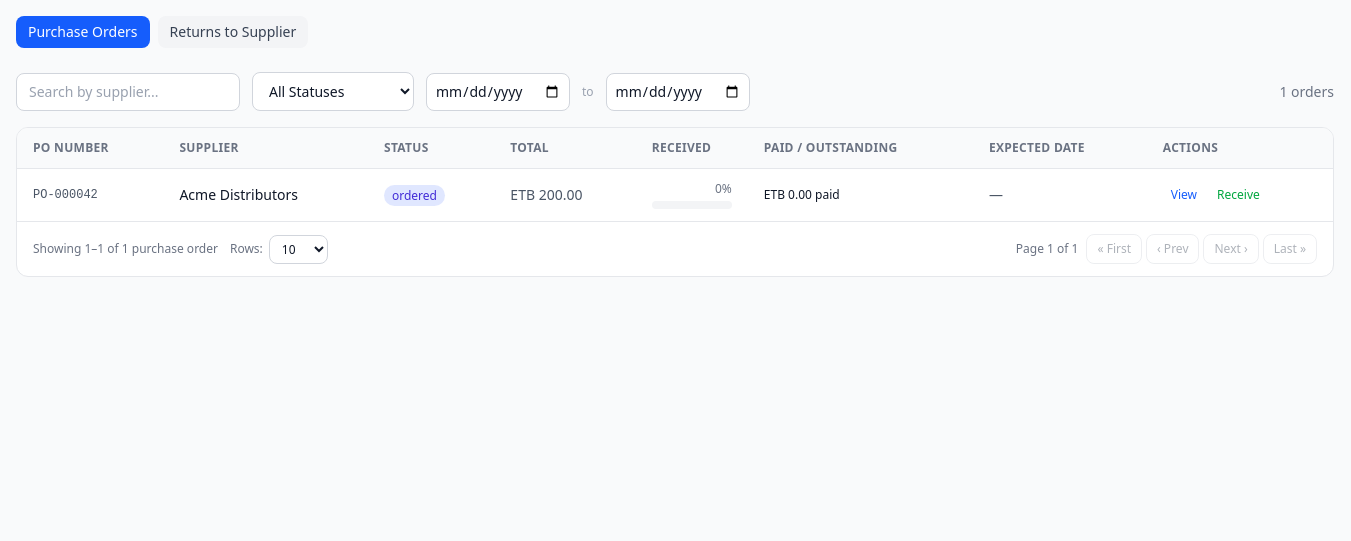
Test: Procurement: who may take each step › offers a Stock Clerk receiving in the receiving branch
The width and height of the screenshot is (1351, 541).
Expected: the text "Acme Distributors" is shown, [163, 168, 368, 221]
Step 1. Click the button "View" → click(1184, 195), box [1163, 183, 1205, 207]
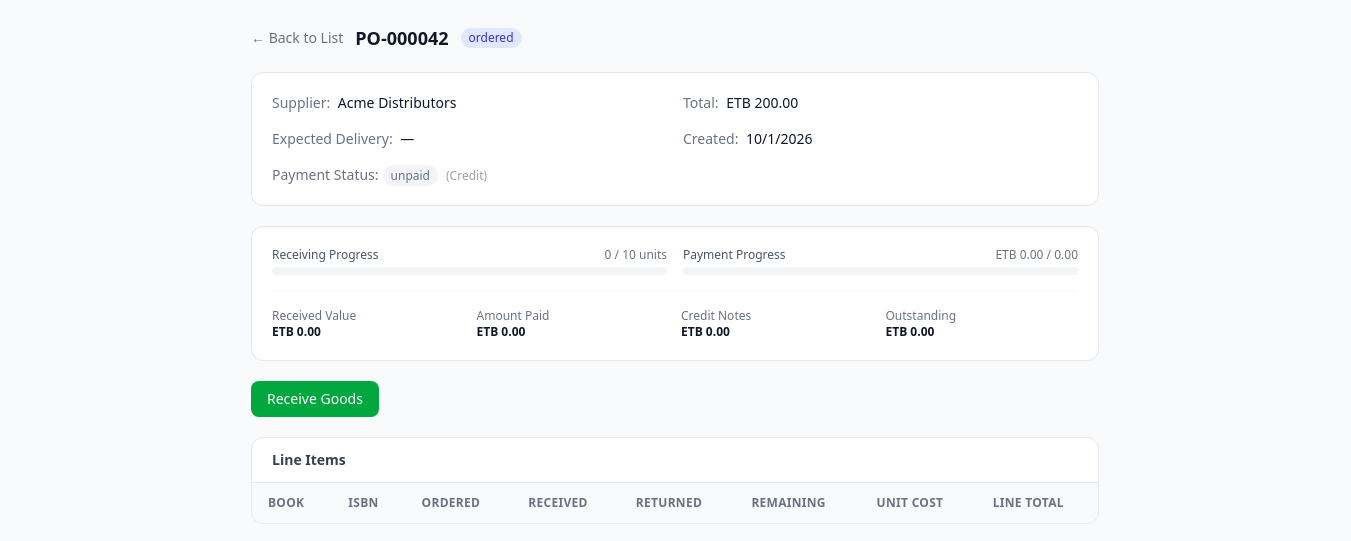
Expected: the heading "Line Items" is shown, [272, 450, 346, 469]
